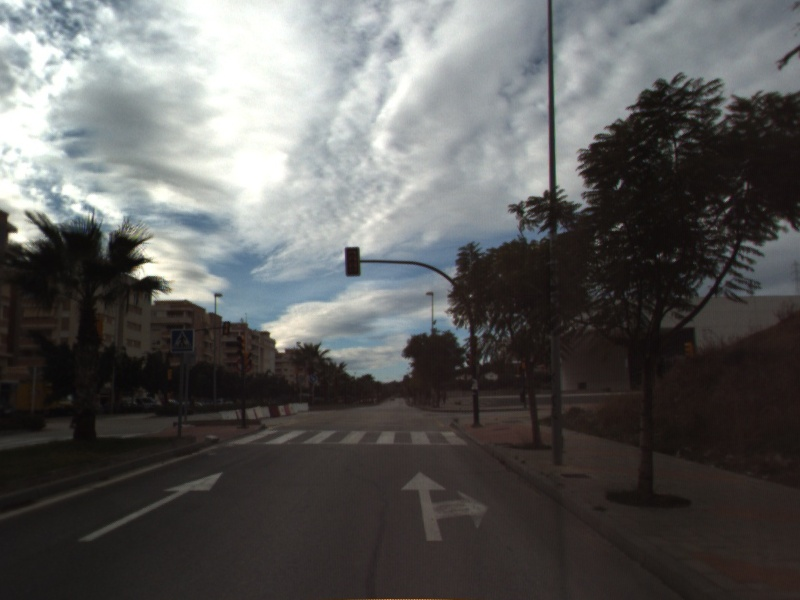STRAIGHT: (76, 470, 225, 543)
STRAIGHT_RIGHT: (399, 469, 490, 543)
